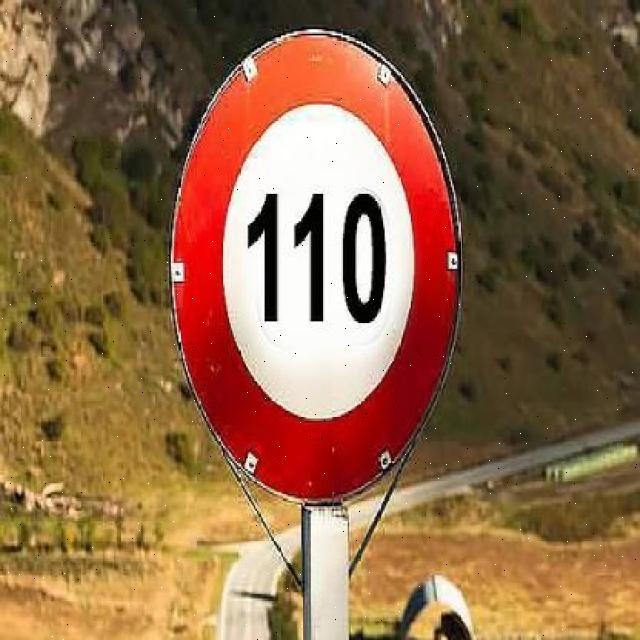speed limit 110: (171, 32, 464, 504)
